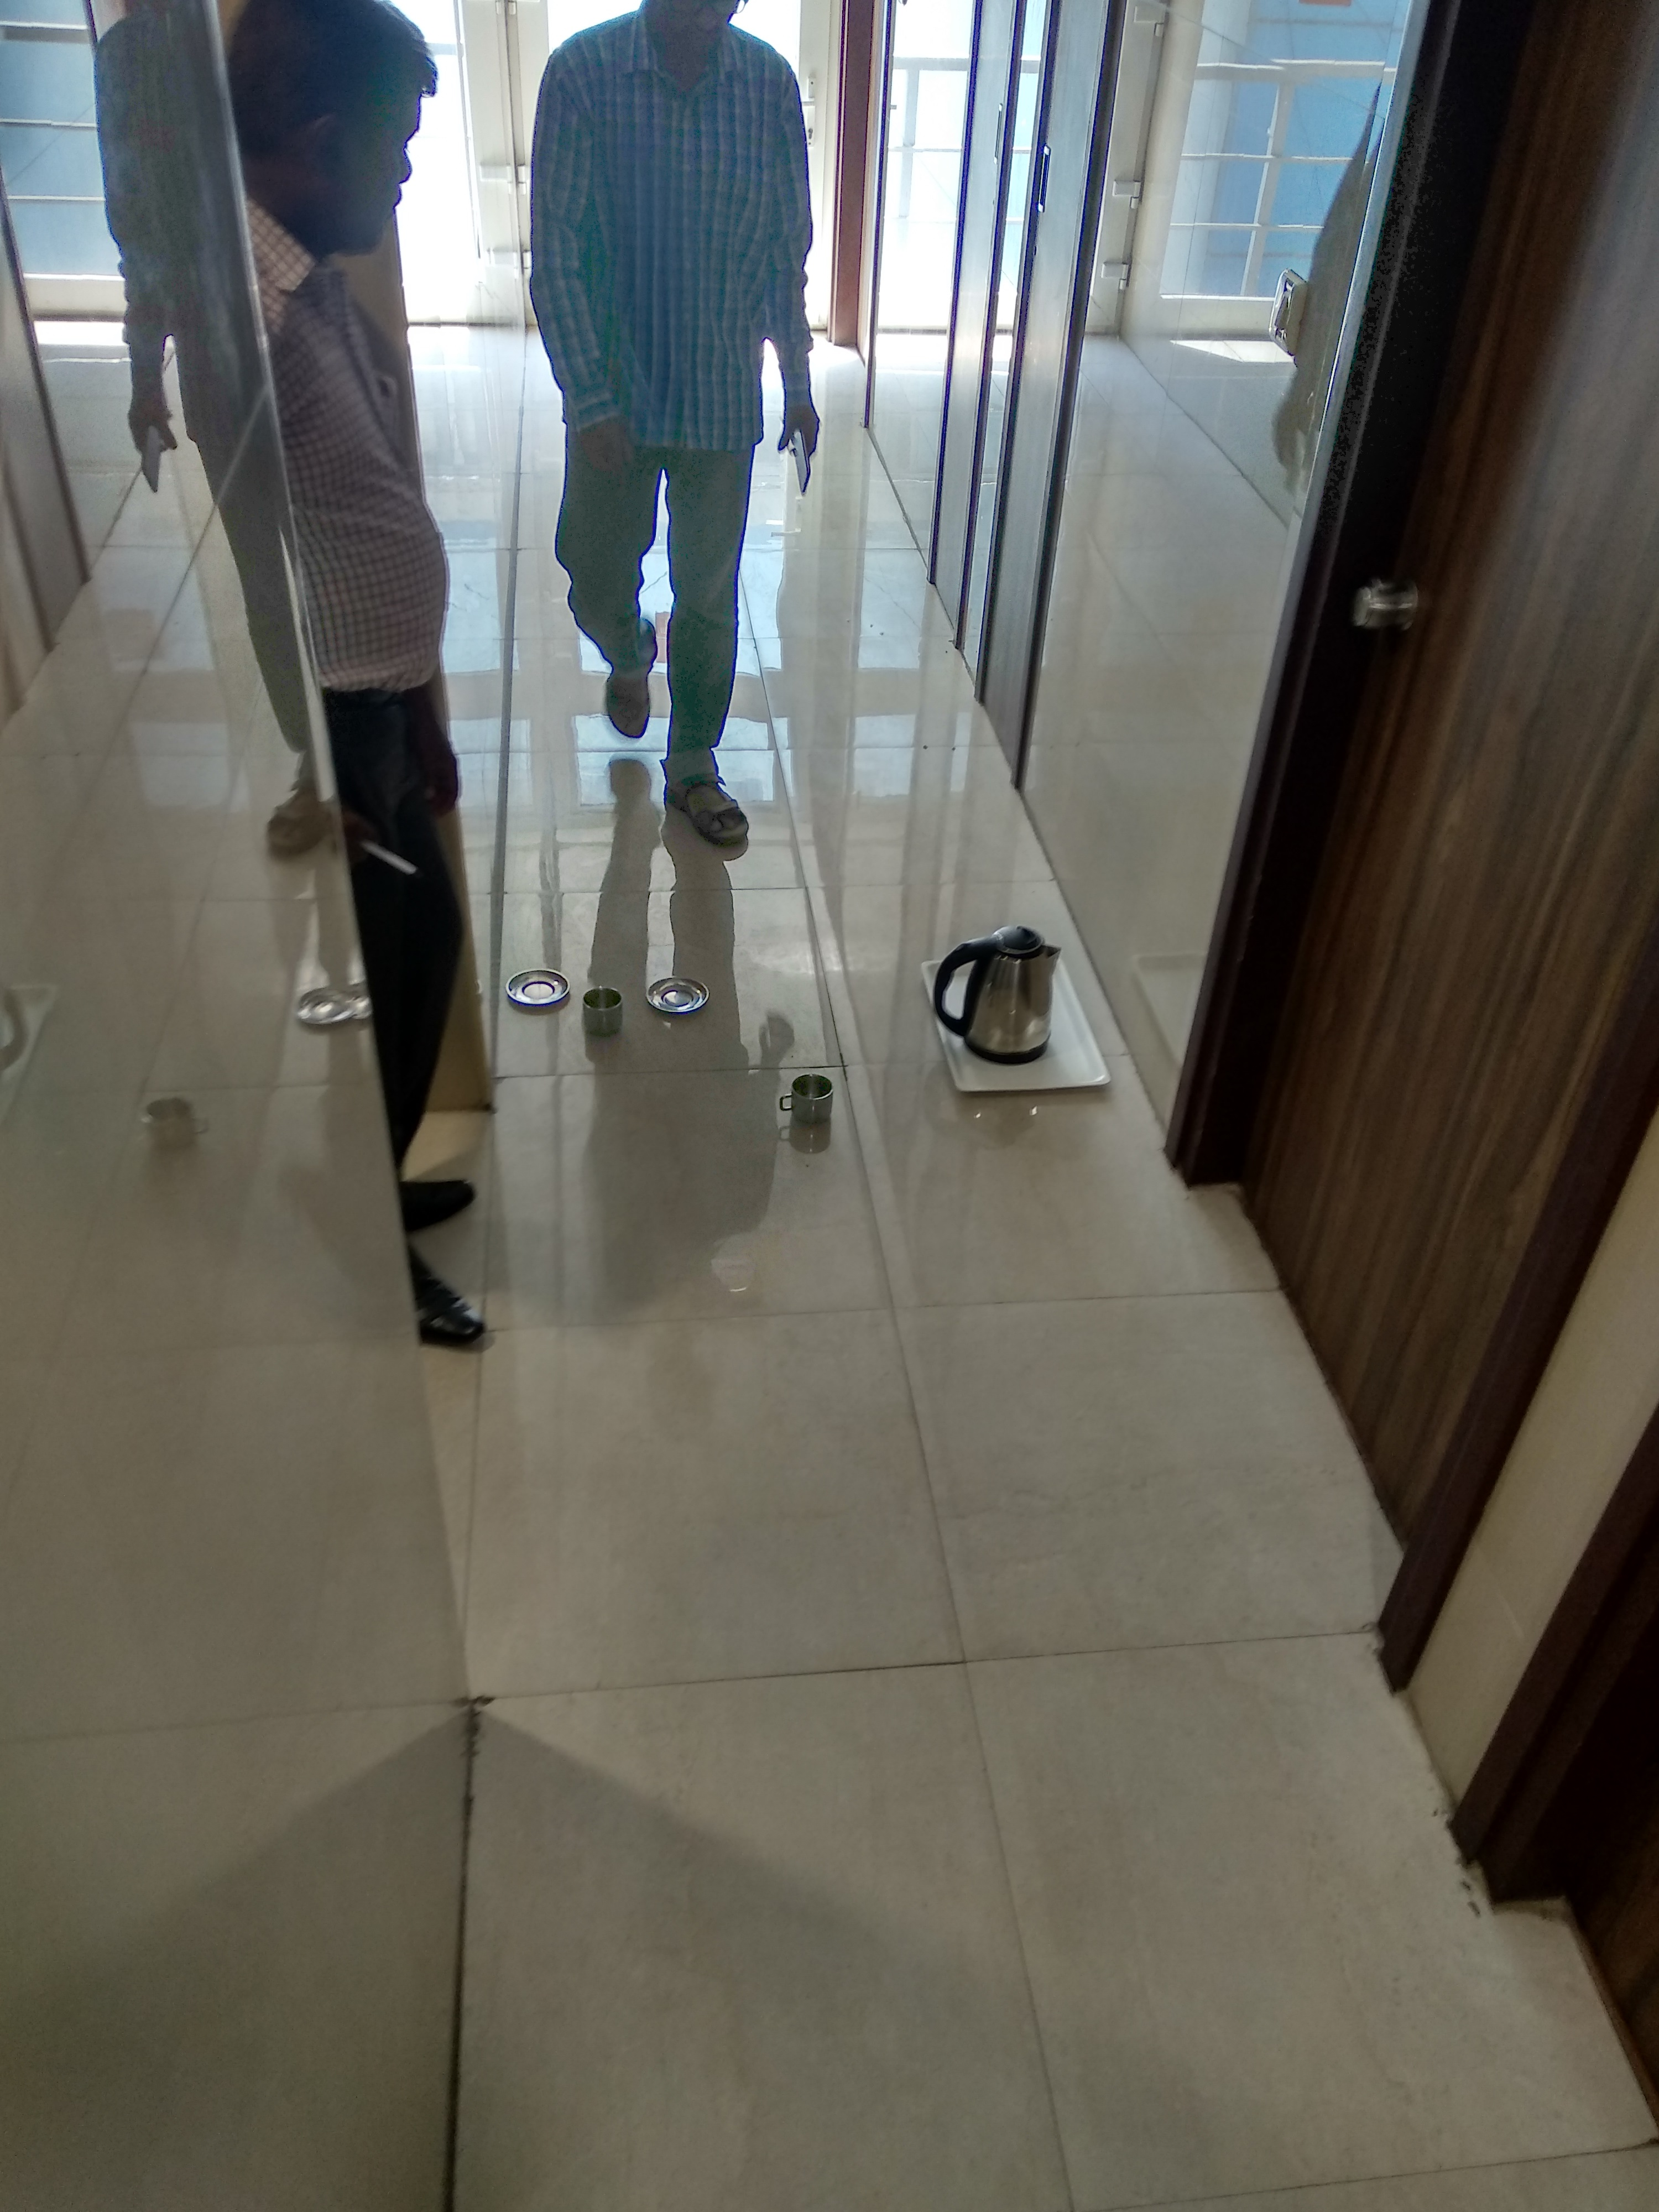CUP: (782, 1071, 838, 1134), (584, 982, 629, 1038)
FLASK: (945, 914, 1084, 1061)
